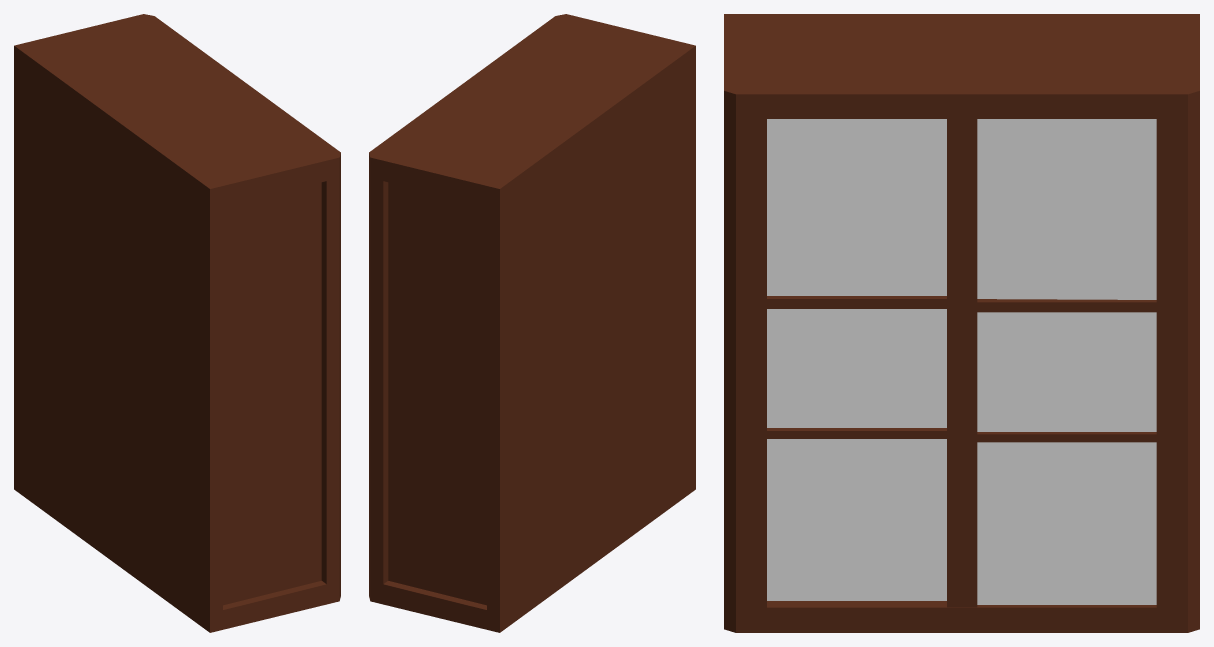
The model's file is Wardrobe assessment.fbx.
3 views of the same model, side by side, from view 1: azimuth 30°, elevation 25°; view 2: azimuth 150°, elevation 25°; view 3: azimuth 270°, elevation 25° (orthographic). The views are drawn at different scales.
Visible parts, largest first — view 1: Cube; view 2: Cube; view 3: Cube.
Boxes of the visible parts, x1,y1,x2,y2 form: Cube: (14, 14, 340, 632); Cube: (369, 14, 695, 632); Cube: (724, 14, 1199, 632).
Size of the model in its own units: 55.64 by 174 by 139.
